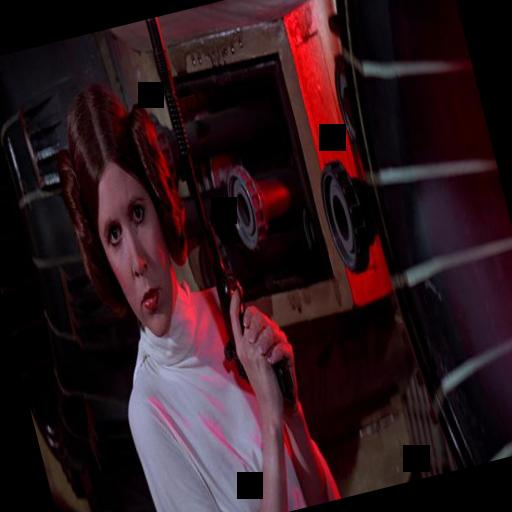Handgun: (166, 164, 305, 409)
